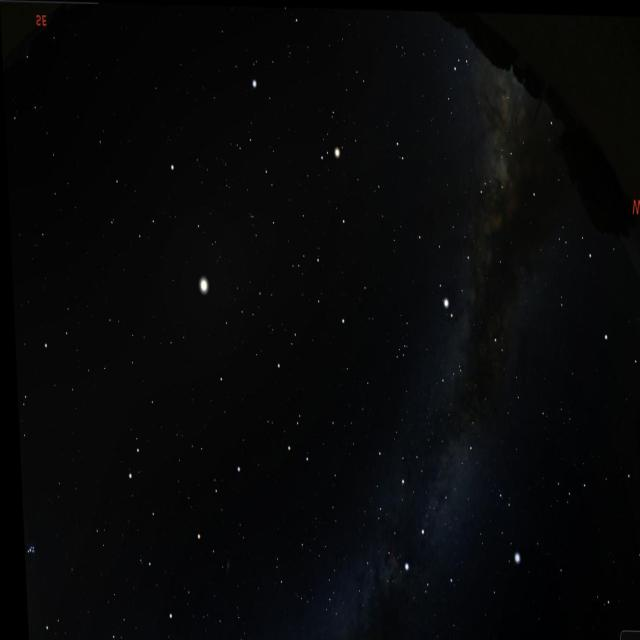aquila: (409, 174, 499, 326)
cygnus: (384, 425, 480, 596)
lyra: (483, 473, 517, 572)
pleiades: (19, 535, 37, 573)
